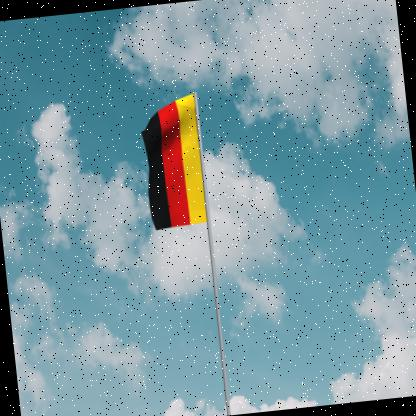de: (138, 95, 208, 234)
